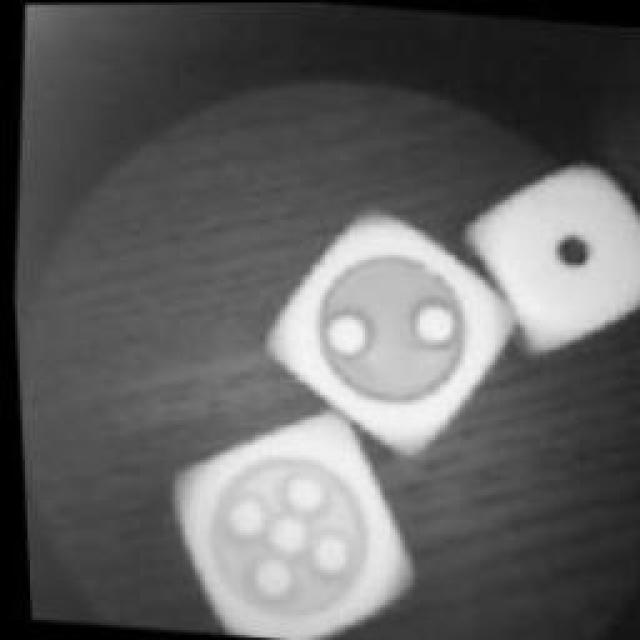dice_1: (459, 152, 639, 358)
dice_2: (249, 202, 519, 456)
dice_5: (158, 400, 418, 640)
